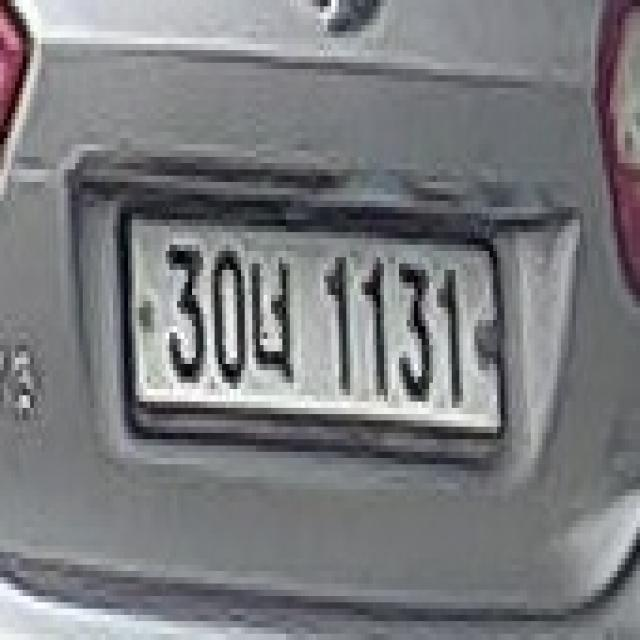0: (211, 251, 245, 389)
1: (324, 251, 354, 395), (437, 270, 467, 408), (361, 264, 388, 396)
3: (162, 238, 207, 383), (399, 257, 433, 408)
license_plate: (117, 188, 512, 452)
neo: (248, 251, 294, 389)
